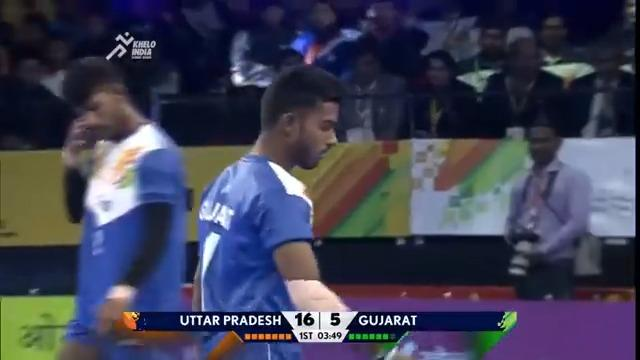Player: (190, 63, 379, 358), (55, 55, 192, 358)
referee: (501, 104, 593, 300)
